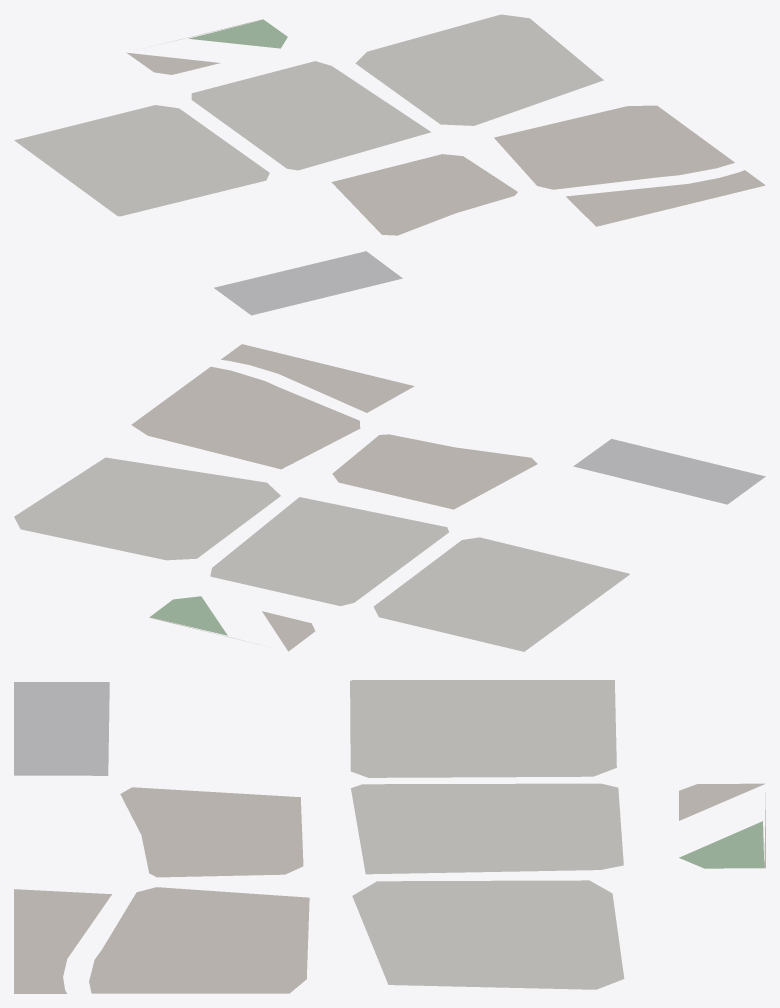
Rendered from 126_70_mid.glb.
3 renders of one model, top to bottom at view 1: azimuth 30°, elevation 25°; view 2: azimuth 150°, elevation 25°; view 3: azimuth 270°, elevation 25°, orthographic. The views are drawn at different scales.
Bounding box in the file's own units: 500 × 4.45 × 500.
